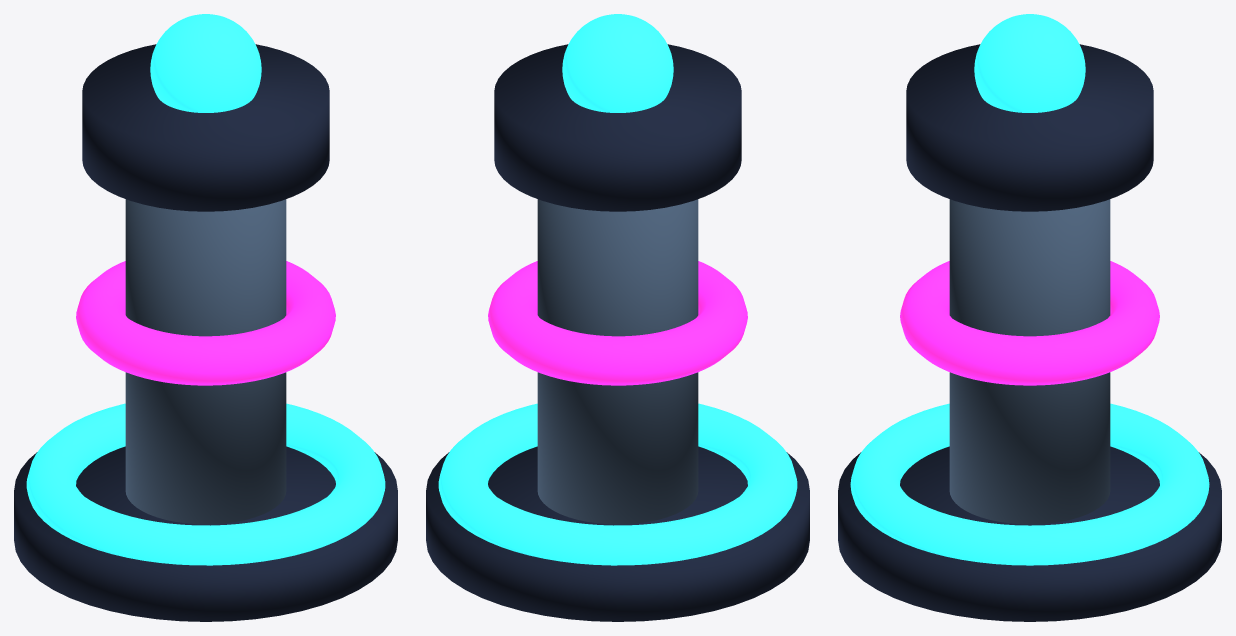
Rendered from railpost.glb.
3 views of the same model, side by side, from view 1: azimuth 30°, elevation 25°; view 2: azimuth 150°, elevation 25°; view 3: azimuth 270°, elevation 25° (orthographic).
Visible parts, largest first — view 1: Post_Stem, Post_Cap, Post_Base, Post_BaseGlow, Post_MidRing, Post_Light; view 2: Post_Stem, Post_Cap, Post_Base, Post_BaseGlow, Post_MidRing, Post_Light; view 3: Post_Stem, Post_Cap, Post_Base, Post_BaseGlow, Post_MidRing, Post_Light.
Part boxes in pixels (box(x1,y1,x2,y2)): Post_Stem: box(125, 199, 286, 524); Post_Cap: box(82, 44, 329, 211); Post_Base: box(14, 446, 397, 621); Post_BaseGlow: box(26, 403, 385, 565); Post_MidRing: box(76, 261, 335, 385); Post_Light: box(150, 14, 261, 112); Post_Stem: box(537, 199, 698, 524); Post_Cap: box(494, 44, 741, 211); Post_Base: box(426, 446, 809, 621); Post_BaseGlow: box(438, 403, 797, 565); Post_MidRing: box(488, 261, 747, 385); Post_Light: box(562, 14, 673, 112); Post_Stem: box(949, 199, 1110, 524); Post_Cap: box(906, 44, 1153, 211); Post_Base: box(838, 446, 1221, 621); Post_BaseGlow: box(850, 403, 1209, 565); Post_MidRing: box(900, 261, 1159, 385); Post_Light: box(974, 14, 1085, 112).
Size of the model in its own units: 0.62 by 0.93 by 0.62.
